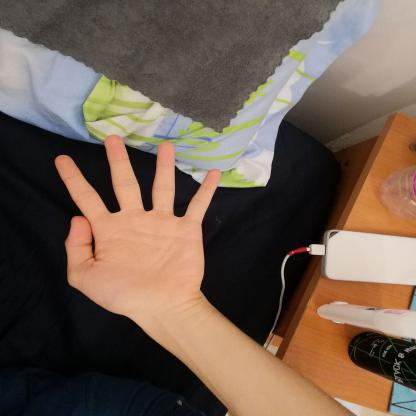SHEEN: (37, 127, 232, 330)
